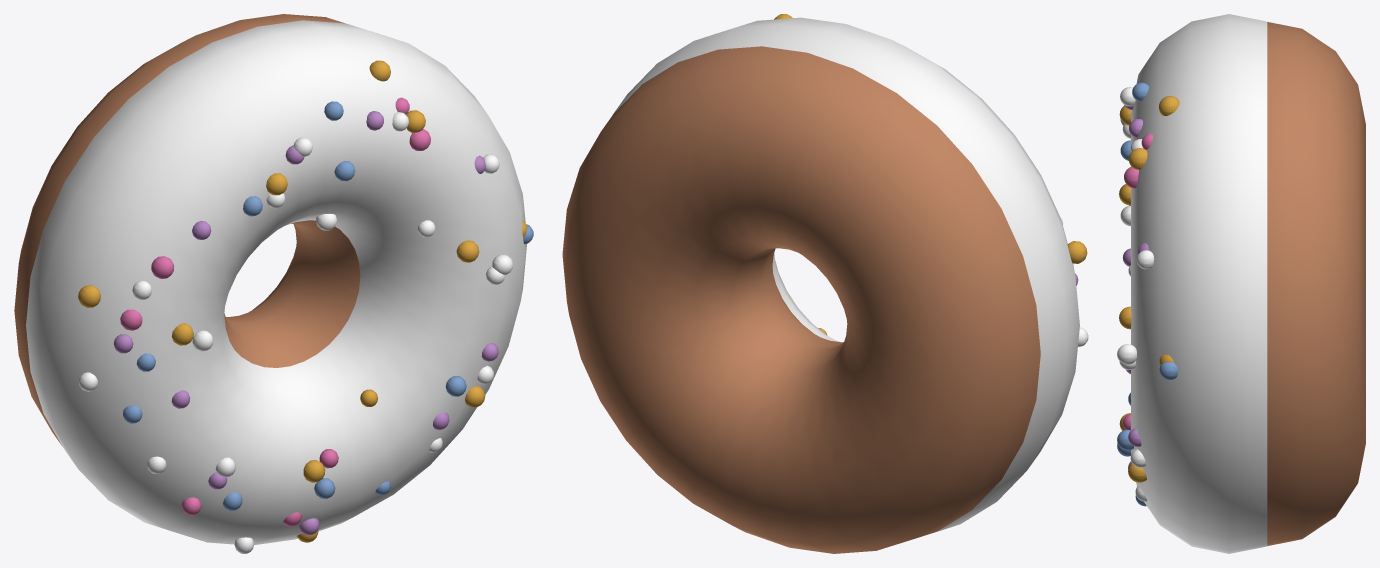
The picture shows the model from 3 angles, left to right: view 1: azimuth 30°, elevation 25°; view 2: azimuth 150°, elevation 25°; view 3: azimuth 270°, elevation 25°; orthographic projection. The views are drawn at different scales.
Visible parts, largest first — view 1: Torus -top, Torus, Merged Geometry, Merged Geometry 5, Merged Geometry 3, Merged Geometry 4, Merged Geometry 2; view 2: Torus, Torus -top; view 3: Torus -top, Torus, Merged Geometry 5, Merged Geometry, Merged Geometry 3, Merged Geometry 4, Merged Geometry 2.
Boxes of the visible parts, box(x1,y1,x2,y2) form: Torus -top: box(26, 20, 526, 545); Torus: box(14, 14, 360, 446); Merged Geometry: box(78, 112, 513, 553); Merged Geometry 5: box(78, 60, 527, 542); Merged Geometry 3: box(123, 101, 533, 510); Merged Geometry 4: box(113, 111, 498, 535); Merged Geometry 2: box(120, 97, 430, 526); Torus: box(562, 46, 1040, 553); Torus -top: box(613, 17, 1079, 535); Torus -top: box(1131, 14, 1267, 553); Torus: box(1267, 22, 1365, 545); Merged Geometry 5: box(1119, 96, 1179, 482); Merged Geometry: box(1117, 87, 1154, 501); Merged Geometry 3: box(1117, 82, 1178, 506); Merged Geometry 4: box(1122, 105, 1148, 468); Merged Geometry 2: box(1122, 133, 1152, 429).
Bounding box in the file's own units: 0.825 × 0.825 × 0.3798.
